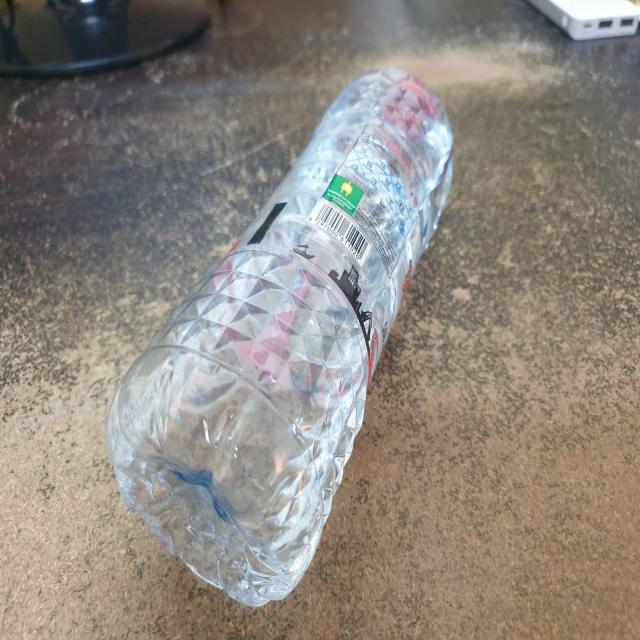bottle: (91, 40, 480, 624)
